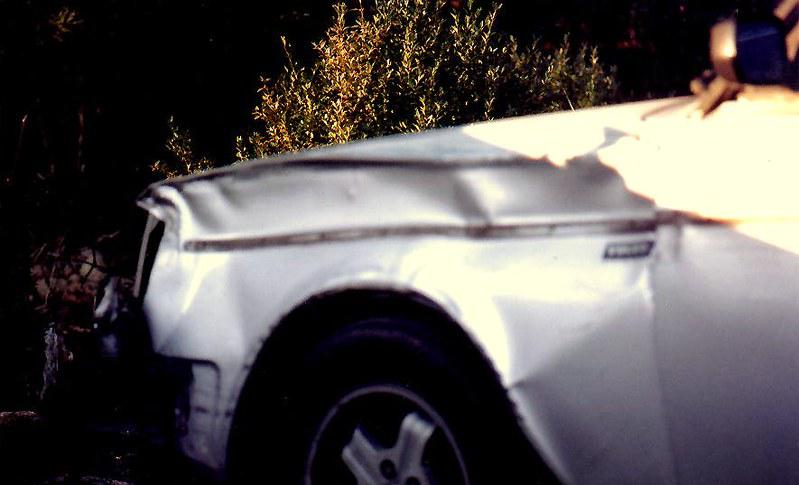fender-dent: (131, 133, 781, 450)
